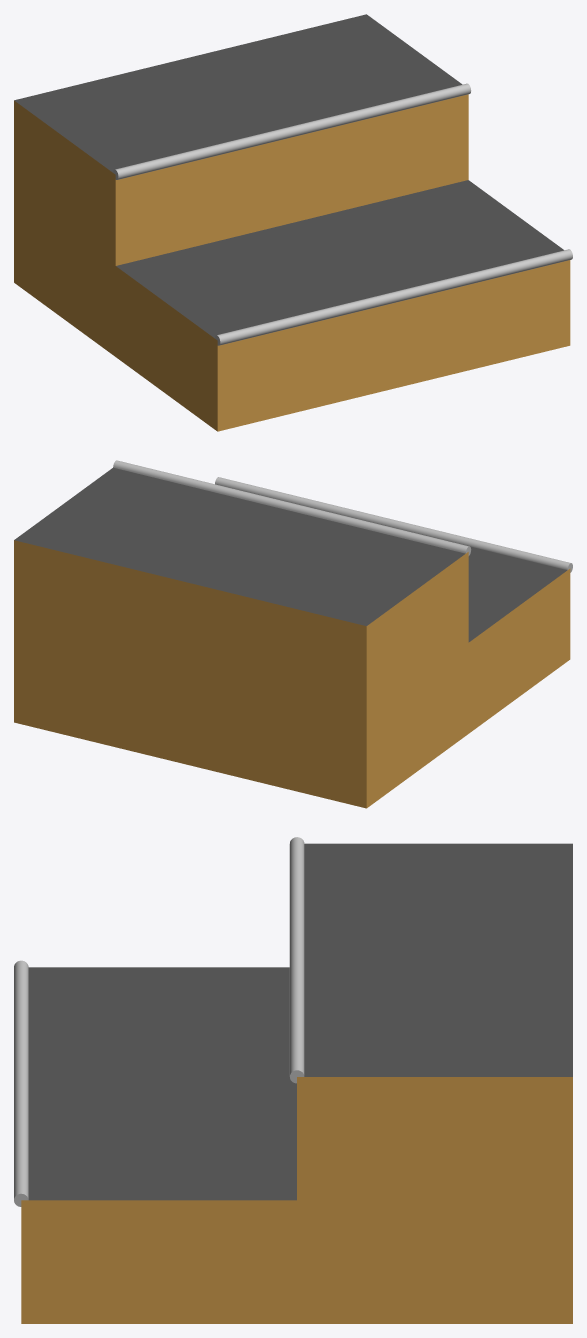
Rendered from Skate_Block_Stairs_Rails_01.FBX.
The picture shows the model from 3 angles, top to bottom: view 1: azimuth 30°, elevation 25°; view 2: azimuth 150°, elevation 25°; view 3: azimuth 270°, elevation 25°; orthographic projection. The views are drawn at different scales.
Visible parts, largest first — view 1: Skate_Block_Stairs_Rails_01; view 2: Skate_Block_Stairs_Rails_01; view 3: Skate_Block_Stairs_Rails_01.
Boxes of the visible parts, bbox=[...] form: Skate_Block_Stairs_Rails_01: bbox=[14, 14, 572, 431]; Skate_Block_Stairs_Rails_01: bbox=[14, 460, 572, 808]; Skate_Block_Stairs_Rails_01: bbox=[14, 837, 572, 1323].
Size of the model in its own units: 3 by 1.52 by 3.04.
